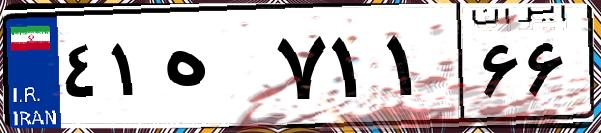1: (385, 28, 445, 110), (330, 28, 385, 110), (110, 28, 158, 98)
4: (57, 26, 110, 100)
6: (475, 38, 525, 113), (525, 38, 570, 115)
7: (270, 28, 330, 110)
ه: (158, 20, 270, 120)
